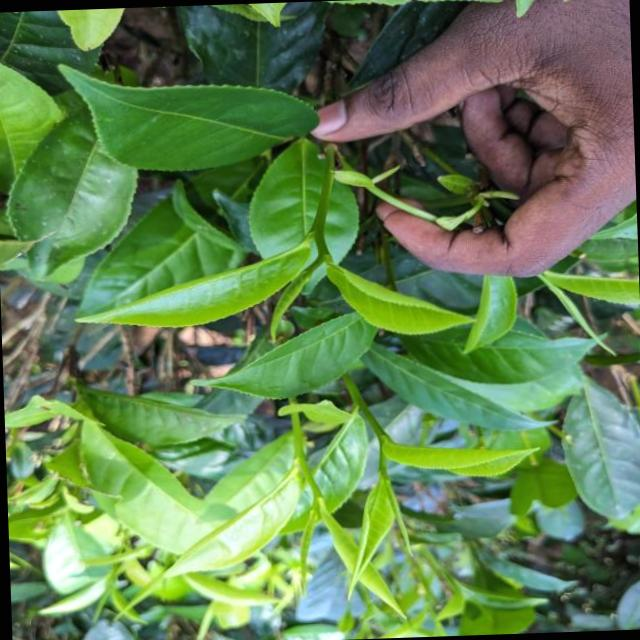Stem: (317, 248, 327, 257), (377, 460, 385, 471), (312, 488, 321, 497)
